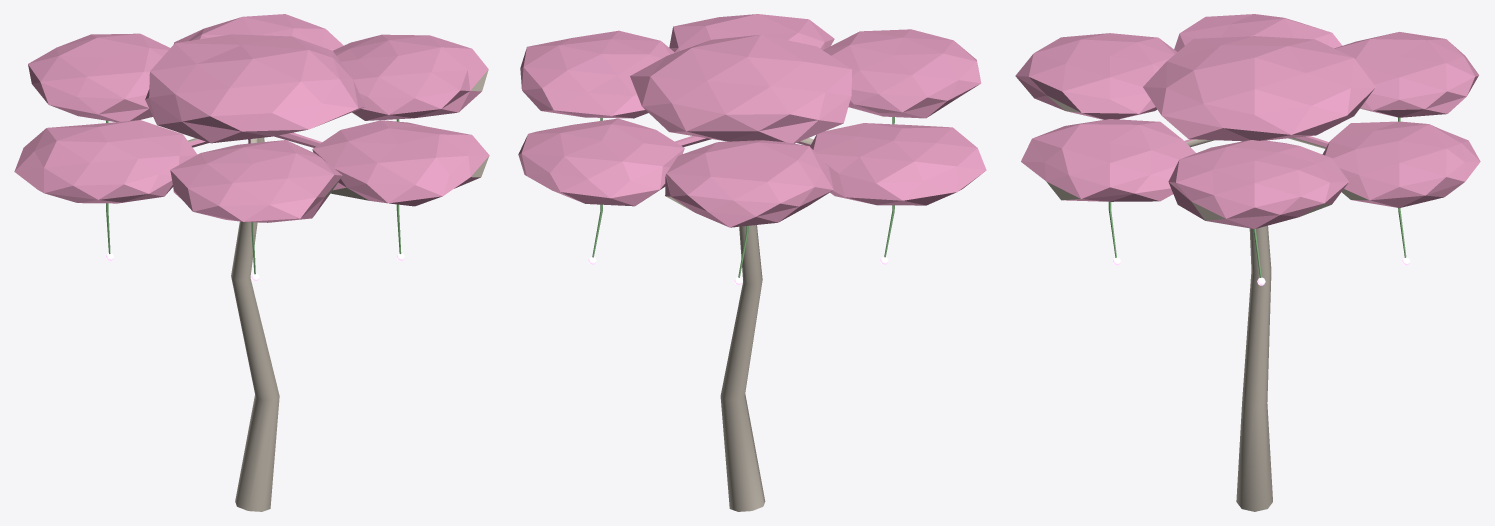
File: tree_umbrella.glb
3 renders of one model, left to right at view 1: azimuth 30°, elevation 25°; view 2: azimuth 150°, elevation 25°; view 3: azimuth 270°, elevation 25°, orthographic.
Parts seen in each view (by area): view 1: Tree_Umbrella; view 2: Tree_Umbrella; view 3: Tree_Umbrella.
Boxes of the visible parts, x1=… form: Tree_Umbrella: x1=14, y1=14, x2=489, y2=511; Tree_Umbrella: x1=518, y1=14, x2=986, y2=511; Tree_Umbrella: x1=1015, y1=14, x2=1480, y2=511.
Bounding box in the file's own units: 15.32 × 14.75 × 13.93.
